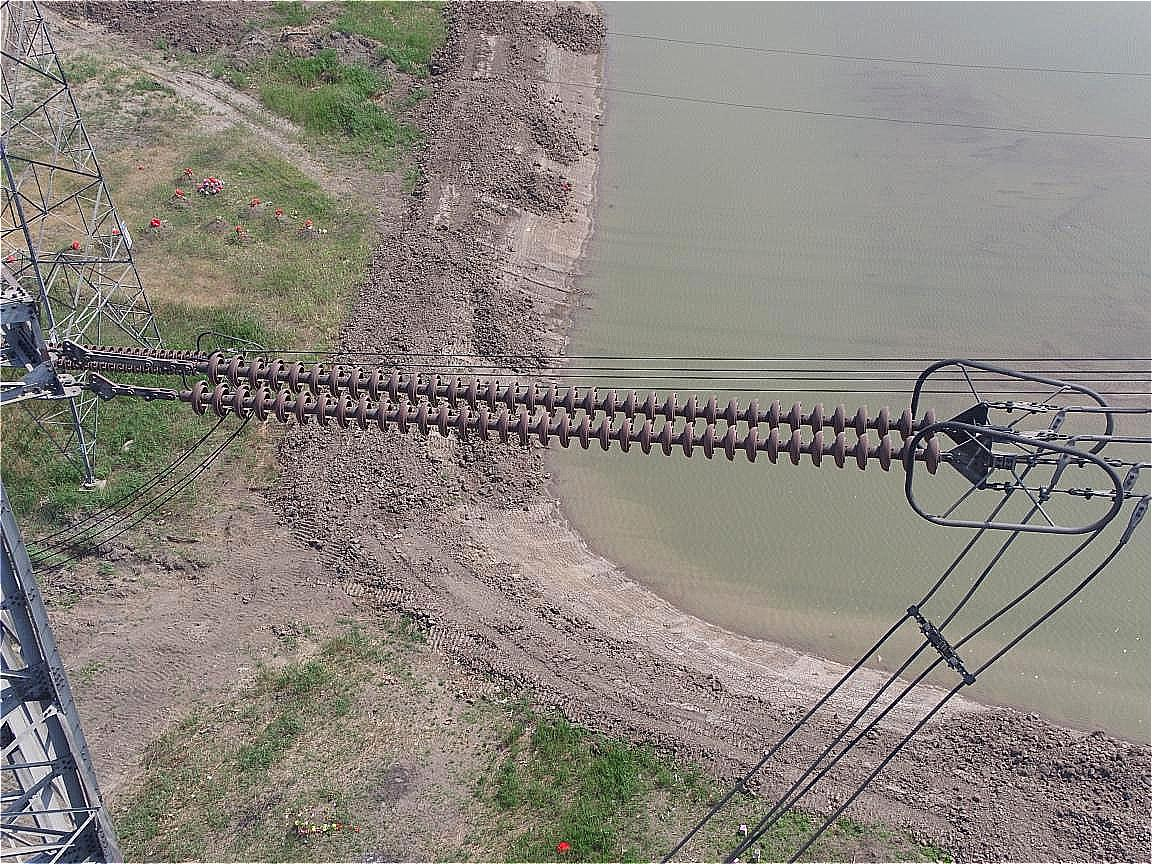insultor1: (195, 353, 942, 473)
